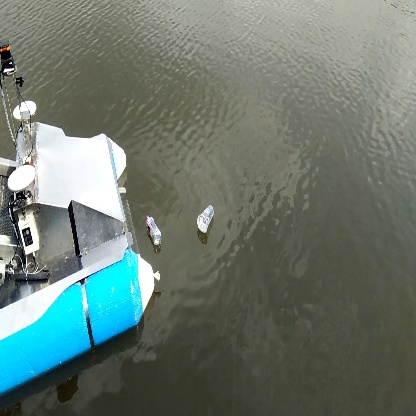bottle: (195, 200, 217, 235), (144, 213, 163, 248)
